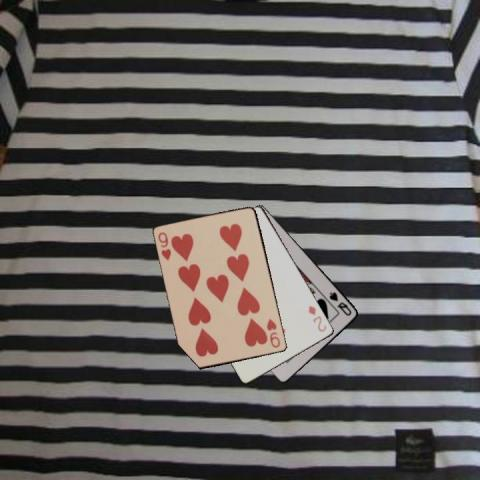2d: (305, 303, 328, 333)
9h: (155, 229, 173, 263), (264, 316, 282, 349)
Qs: (326, 289, 353, 317)
